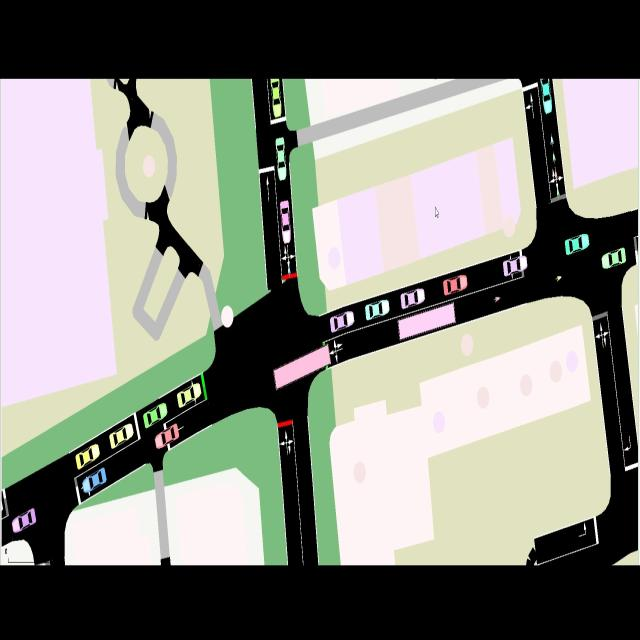vehicle: (273, 345, 332, 389), (397, 303, 456, 340), (177, 380, 202, 409), (81, 468, 108, 493), (12, 508, 37, 534), (144, 403, 168, 430), (109, 423, 133, 449), (330, 310, 354, 334), (401, 288, 426, 311), (280, 197, 292, 244), (76, 446, 99, 470), (366, 299, 390, 322), (444, 274, 467, 298), (503, 255, 528, 276), (276, 136, 287, 182), (602, 250, 626, 270), (566, 235, 588, 255)
